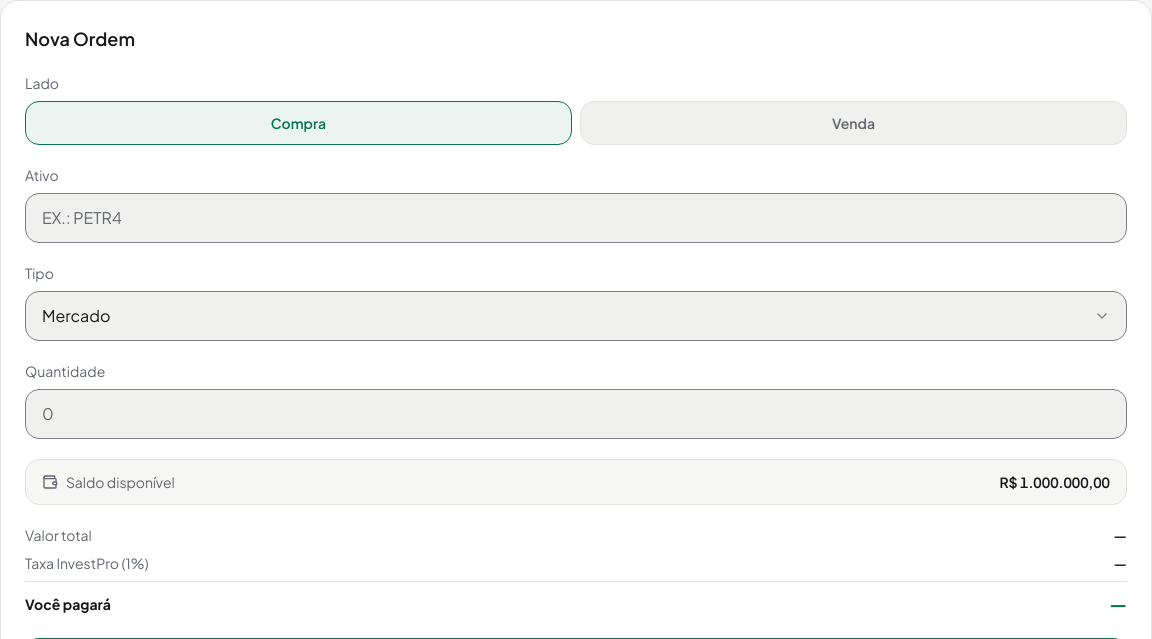
NewOrderForm › compra mostra a taxa de 1% e 'Você pagará' somando-a ao total
In the dropdown with placeholder "ex.: PETR4": (576,218) [25,193,1127,243], type "BTC"
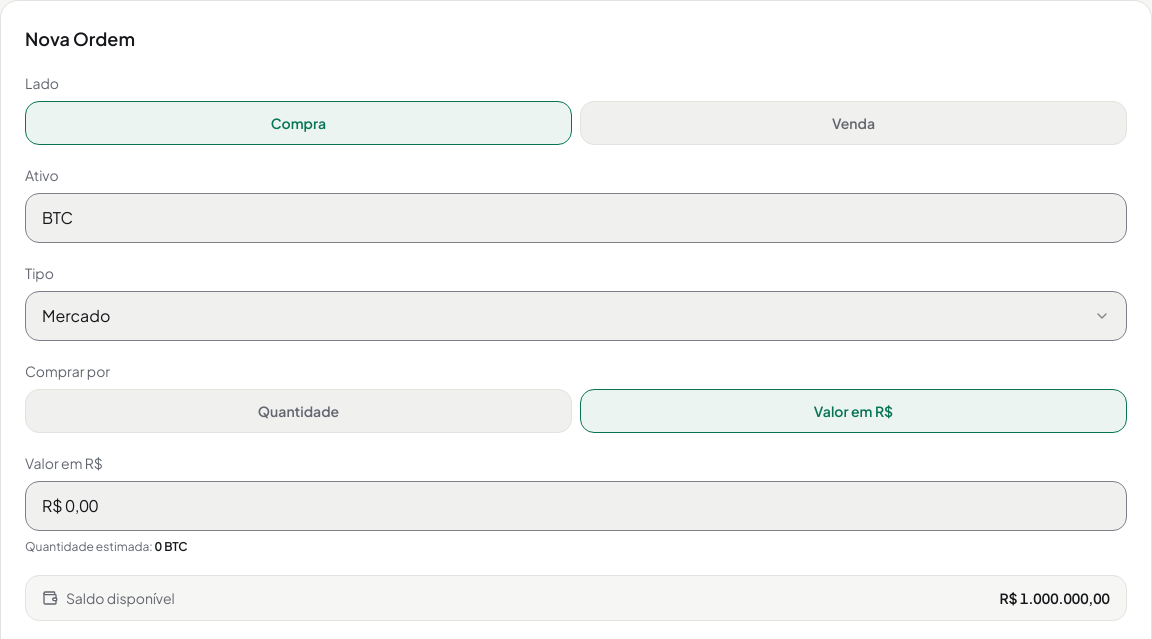
Click the button "Quantidade": (298,411) [25,389,572,433]
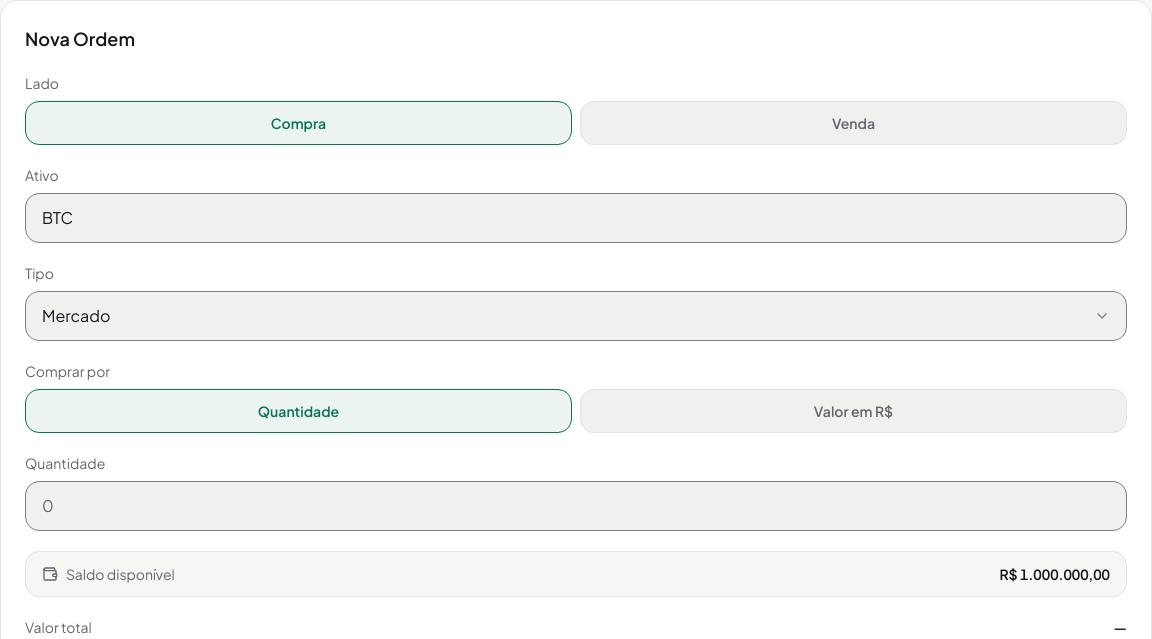
In the field labelled "Quantidade": (576,506) [25,481,1127,531], type "10"
(page scrolled)
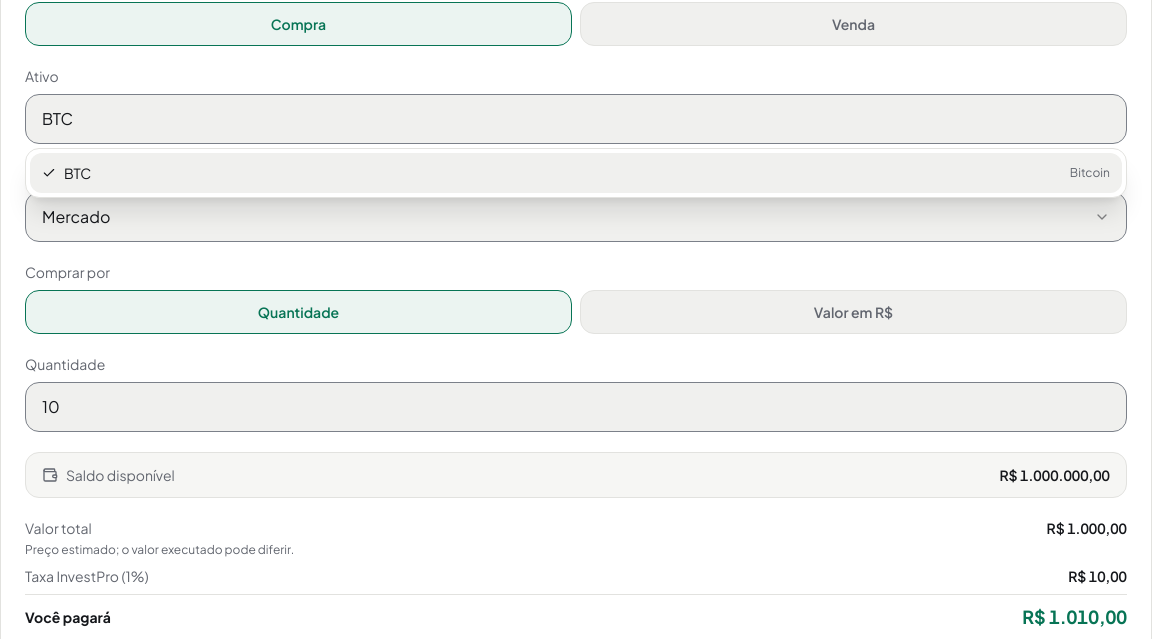
Expected: the text "Taxa InvestPro (1%)" is shown, [25,566,148,586]
Result: the text "R$ 1.010,00" is shown at [1022,603,1127,631]
